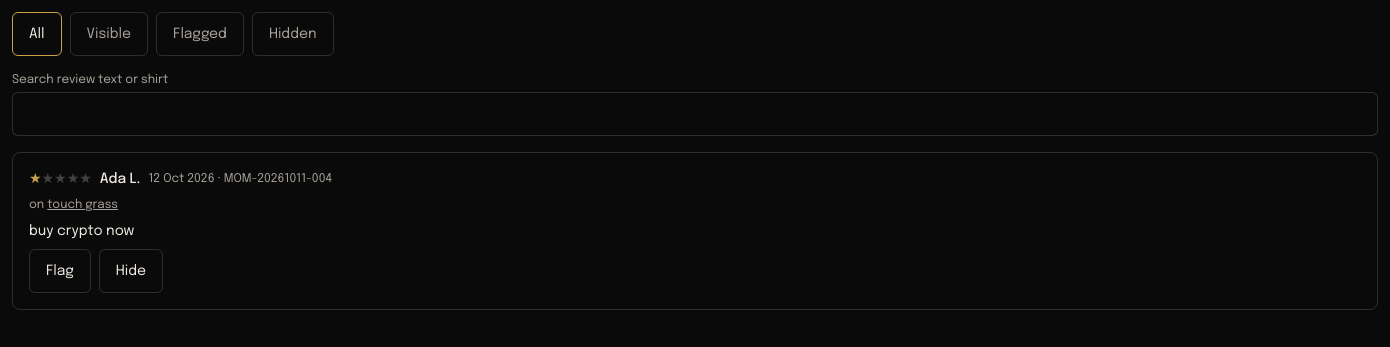
Test: ReviewModeration › flags, hides with a reason and shows a review again
Click the button with aria-label "Flag review by Ada L." at (60, 271), box [29,249,91,293]
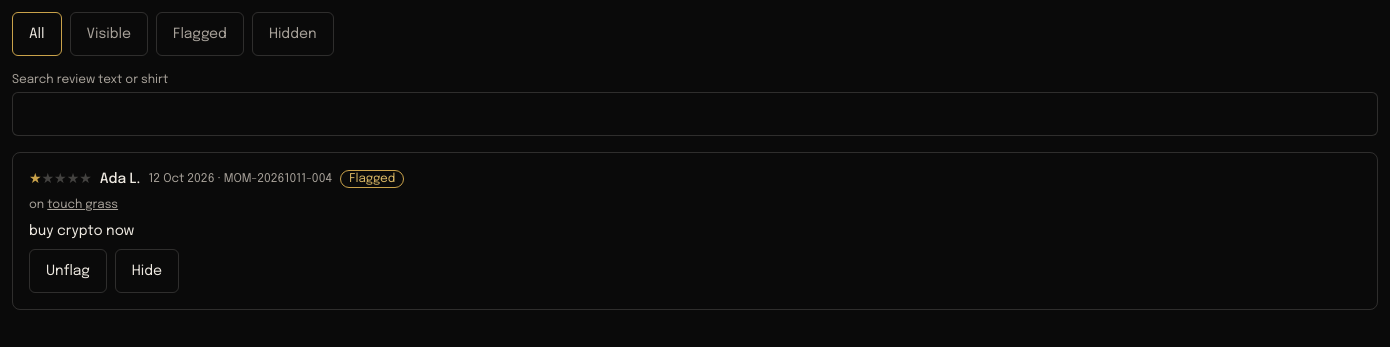
Now the text "Flagged" is shown, box [340,170,404,188]
Click the button with aria-label "Hide review by Ada L." at (147, 271), box [115,249,179,293]
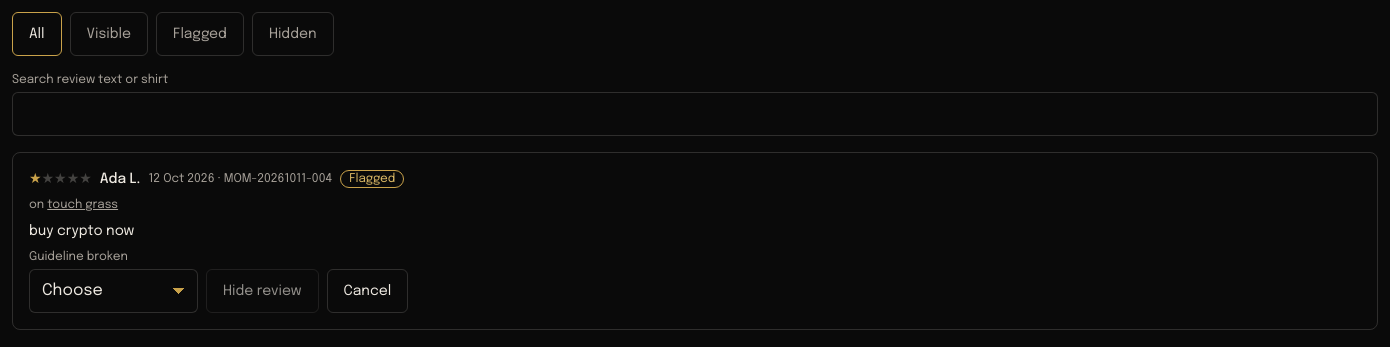
Now the button "Hide review" is disabled, box [206,269,318,313]
Select "Spam" in the dropdown labelled "Guideline broken" at (114, 291), box [29,269,198,313]
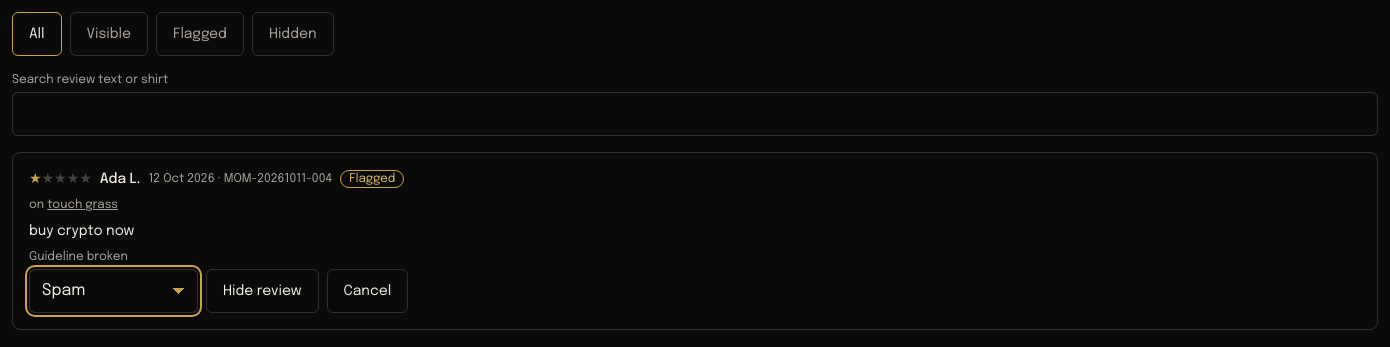
Click the button "Hide review" at (262, 291), box [206,269,318,313]
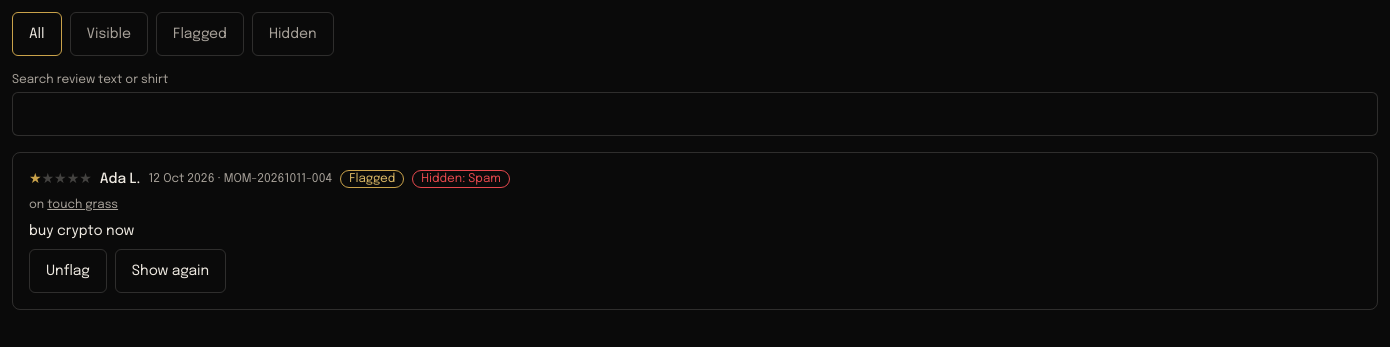
Now the text "Hidden: Spam" is shown, box [412,170,510,188]
Click the button with aria-label "Show review by Ada L." at (170, 271), box [115,249,226,293]
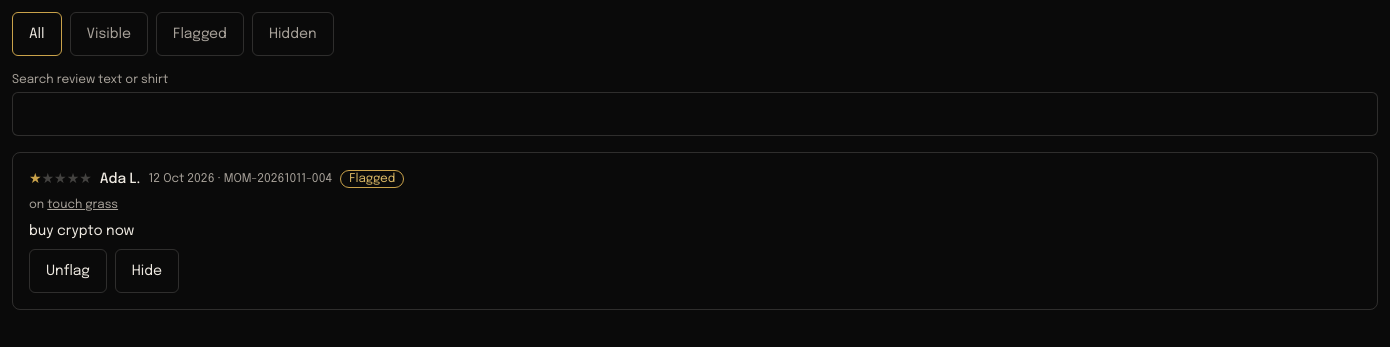
Now the text "Hidden: Spam" is gone
